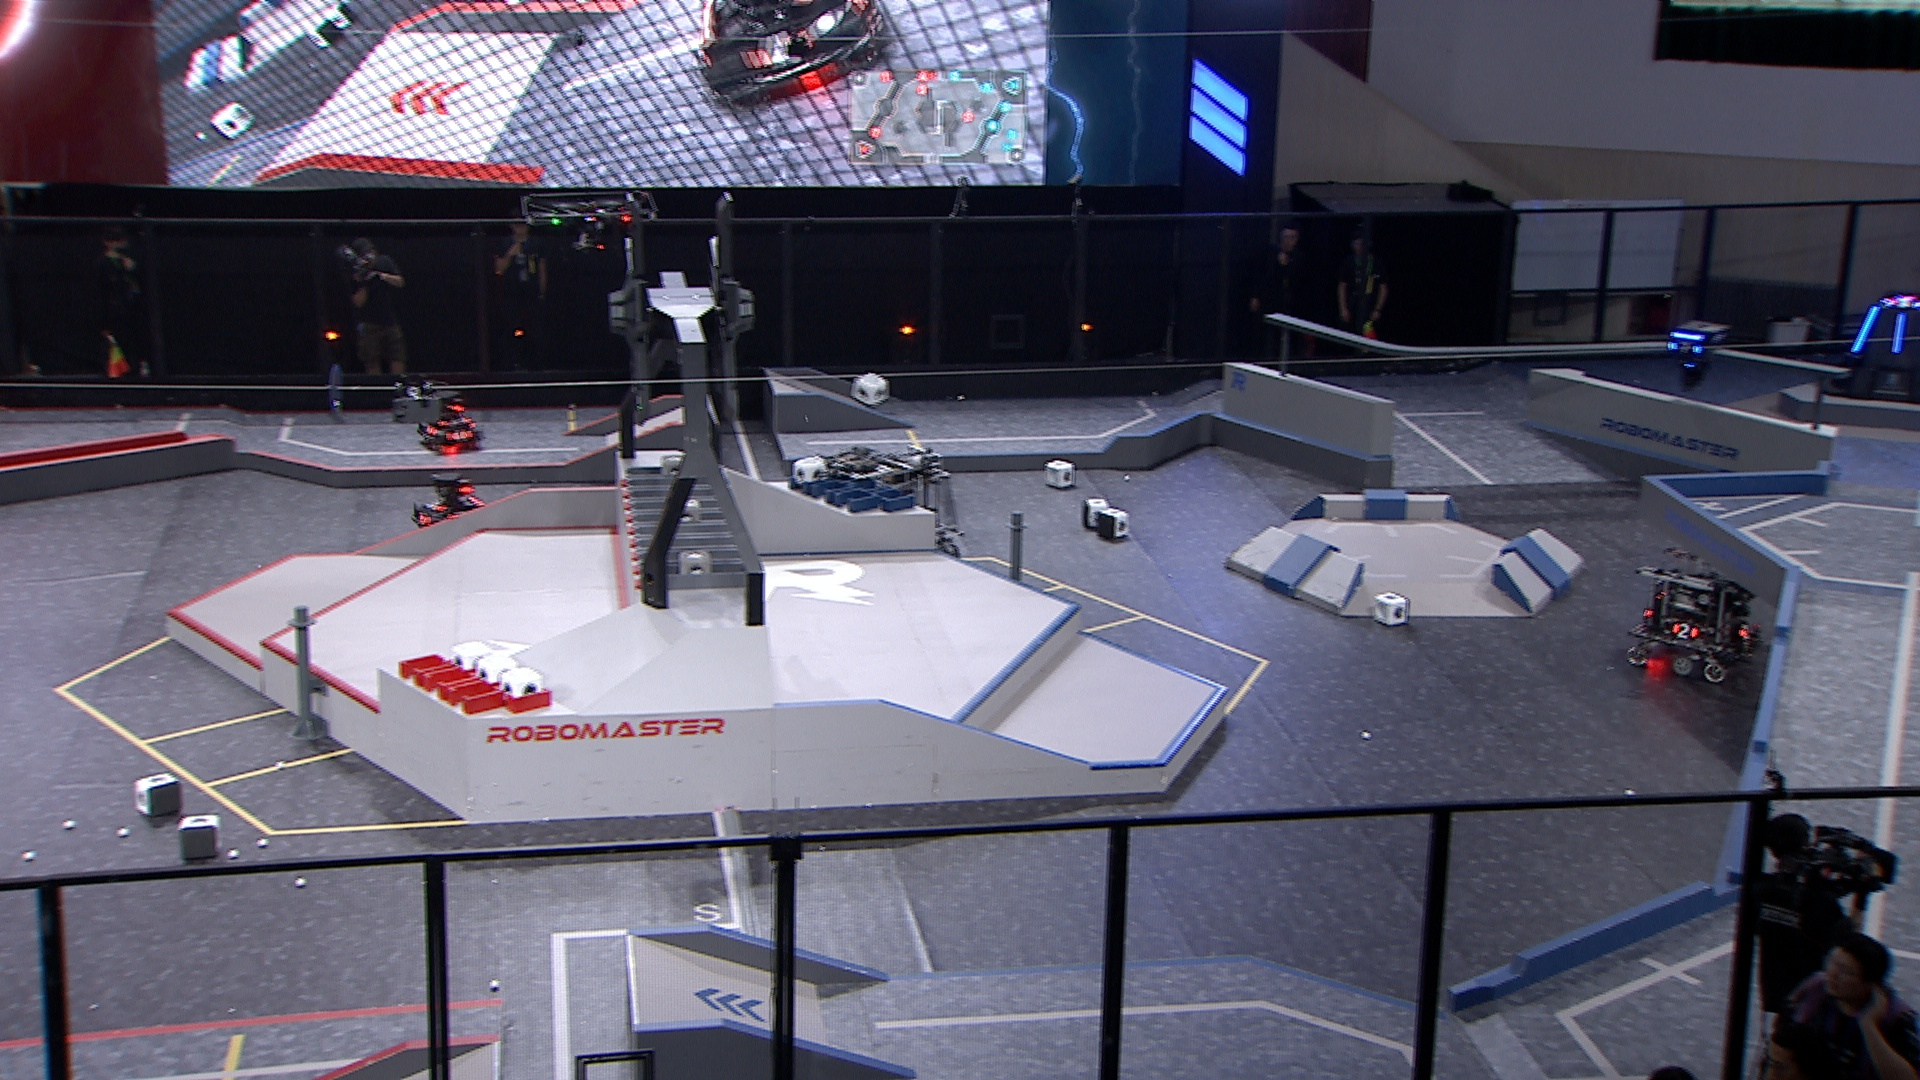armor: (1847, 306, 1880, 353), (1892, 311, 1907, 356), (1669, 339, 1704, 356), (1671, 622, 1700, 642), (446, 429, 472, 444), (1738, 622, 1759, 641), (439, 415, 468, 429), (415, 512, 434, 527), (427, 498, 446, 512), (422, 423, 440, 436)
base: (1820, 291, 1920, 407)
car: (1625, 547, 1762, 684), (827, 448, 965, 575), (407, 469, 489, 534), (414, 392, 484, 450)
ignore: (690, 1, 887, 105), (1888, 295, 1920, 311)
watcher: (1667, 318, 1727, 392)
